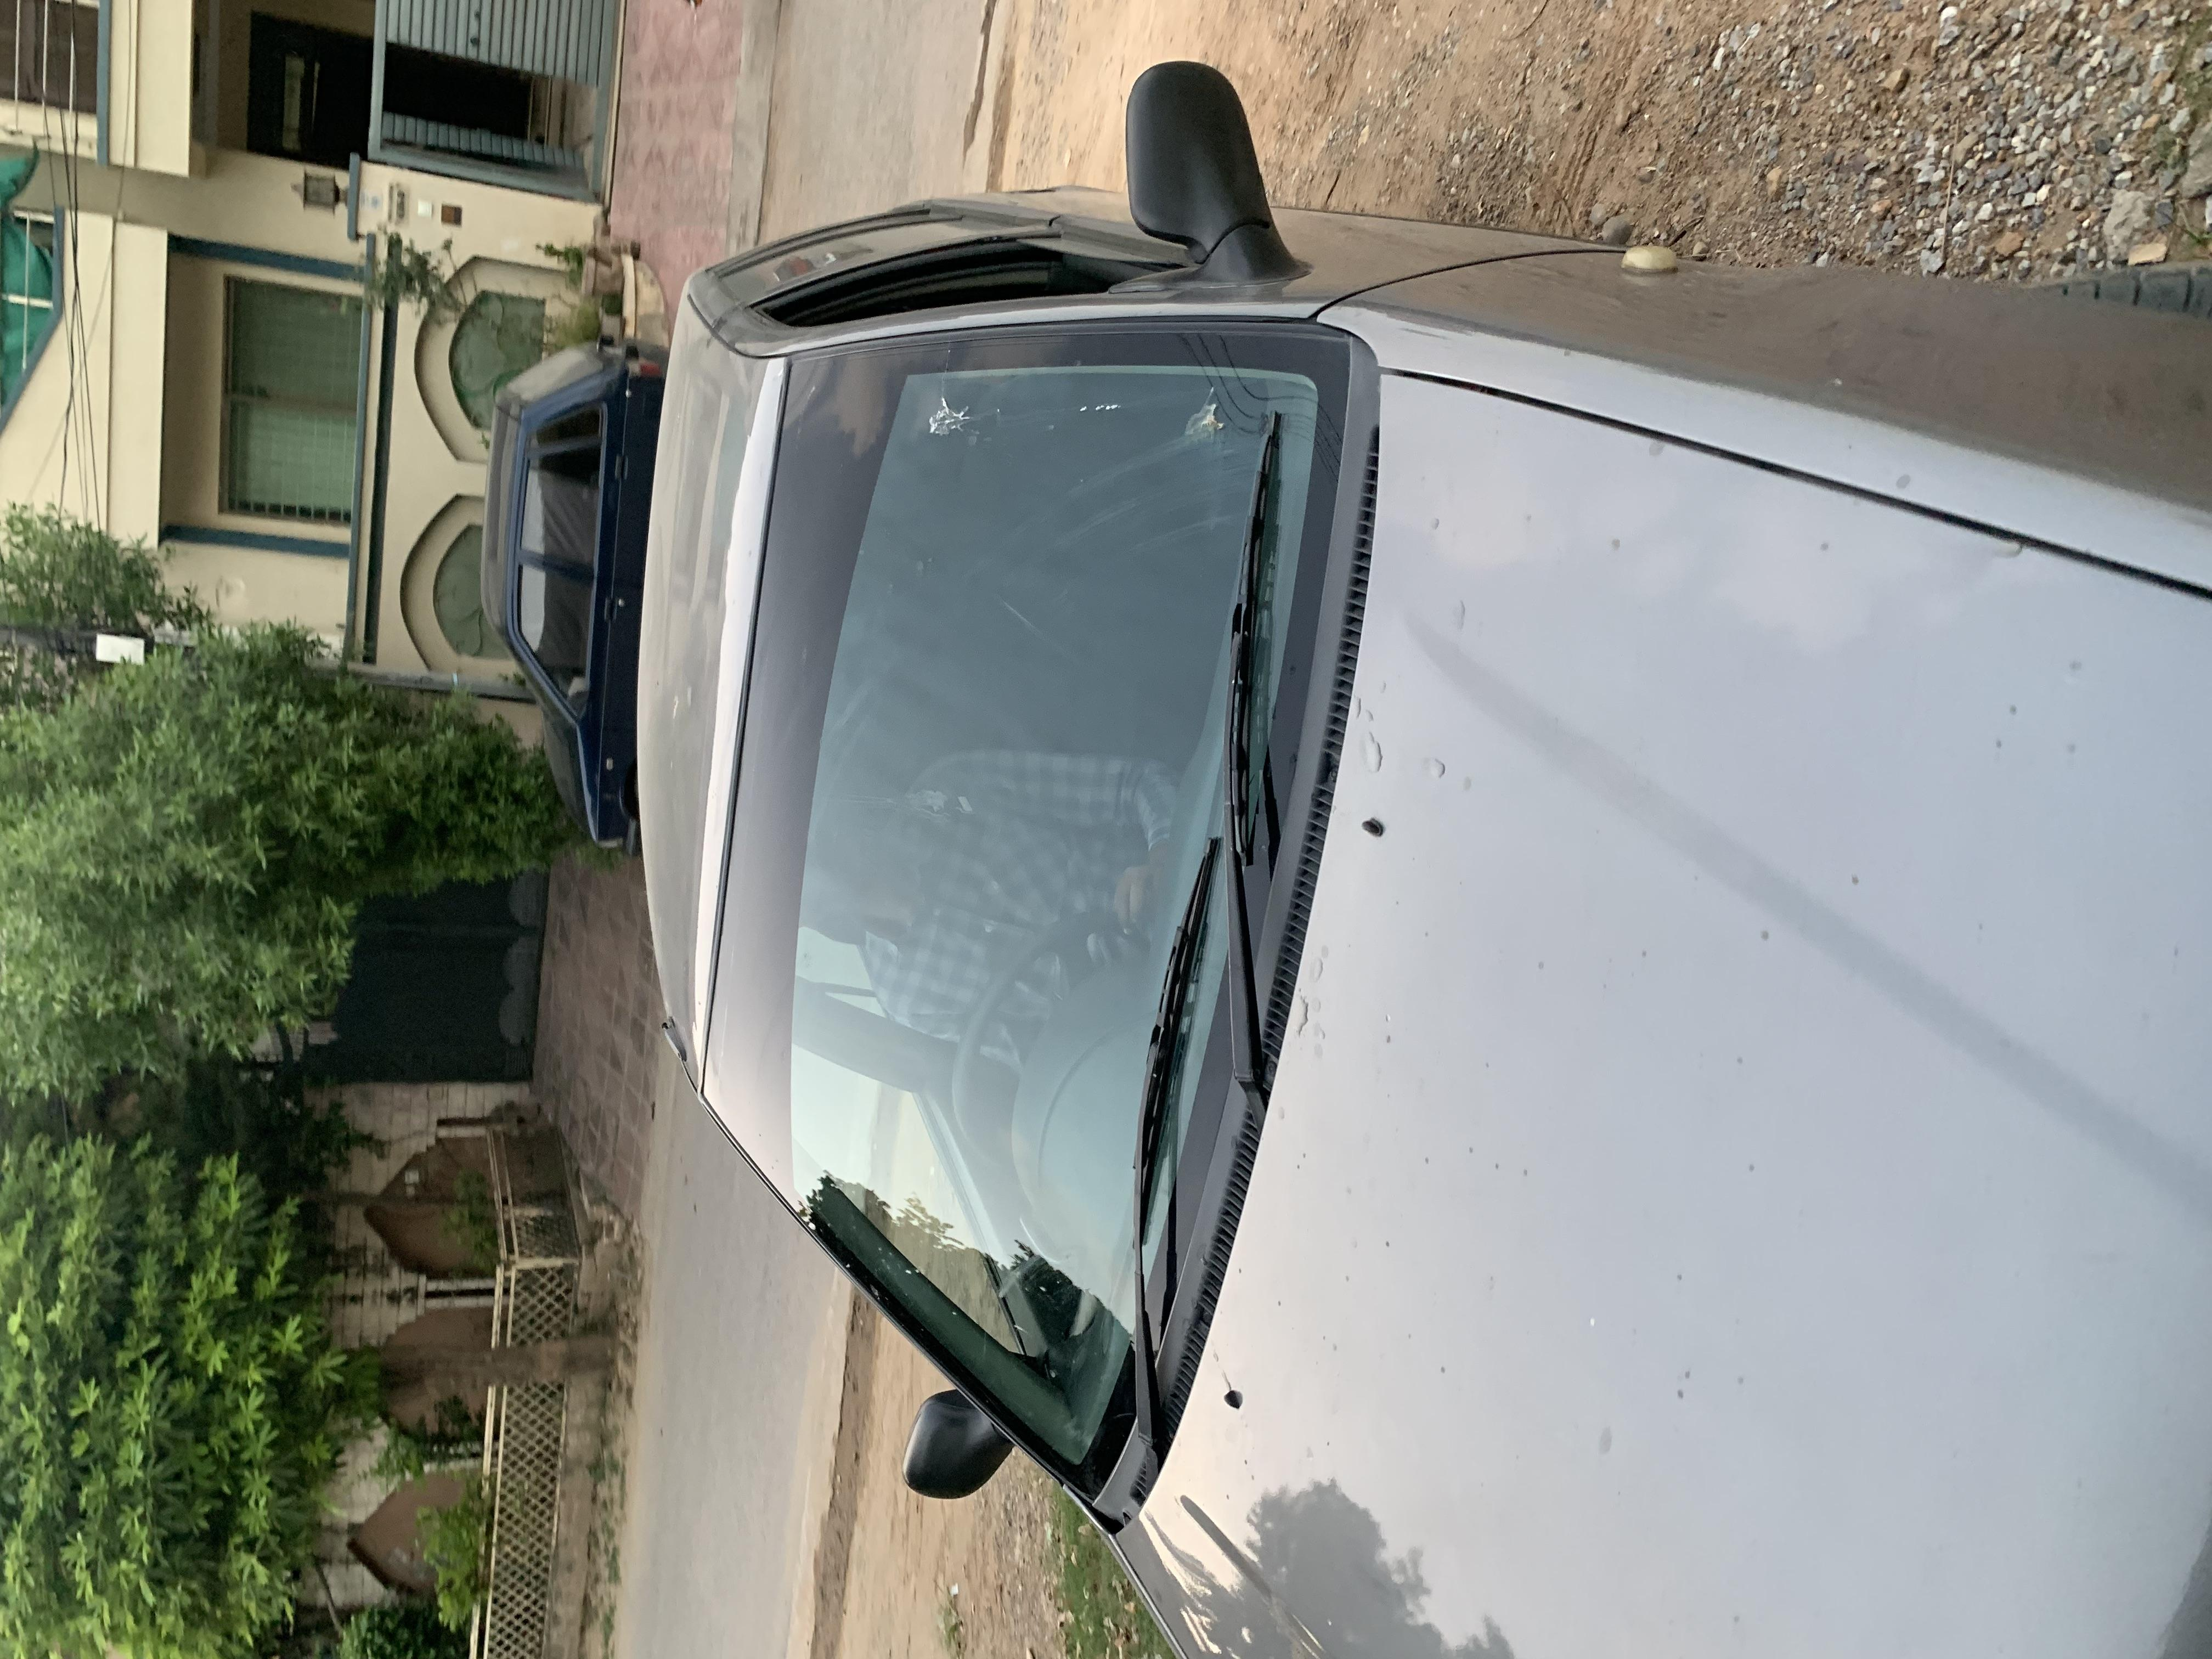windshield: (141, 505, 1801, 1053)
